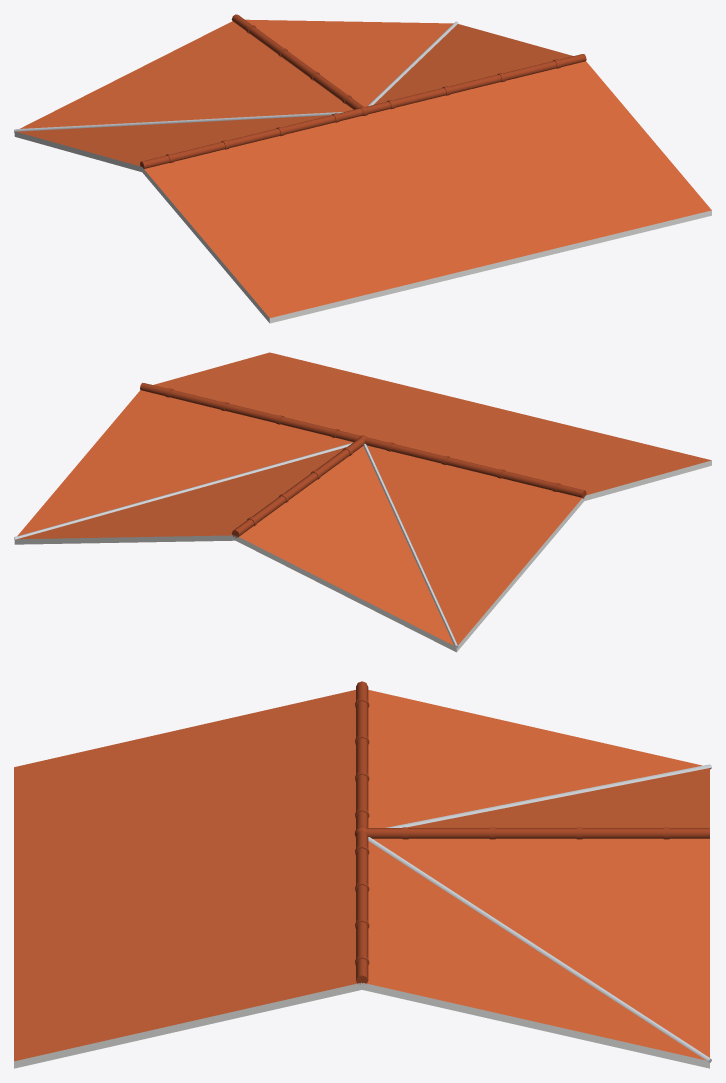
The model's file is telhado_encontro_t_v8_i25.glb.
3 renders of one model, top to bottom at view 1: azimuth 30°, elevation 25°; view 2: azimuth 150°, elevation 25°; view 3: azimuth 270°, elevation 25°, orthographic. The views are drawn at different scales.
Parts seen in each view (by area): view 1: telhado_encontro_t_v8_i25; view 2: telhado_encontro_t_v8_i25; view 3: telhado_encontro_t_v8_i25.
Part boxes in pixels (<box>): telhado_encontro_t_v8_i25: <box>14,14,711,323</box>; telhado_encontro_t_v8_i25: <box>14,352,711,652</box>; telhado_encontro_t_v8_i25: <box>14,681,711,1068</box>.
Size of the model in its own units: 8.04 by 1.2 by 8.02.
4 materials, 1 textured.
